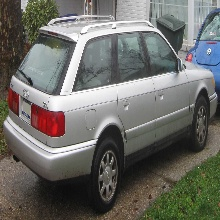no damage: (4, 16, 218, 209), (187, 9, 220, 70)
